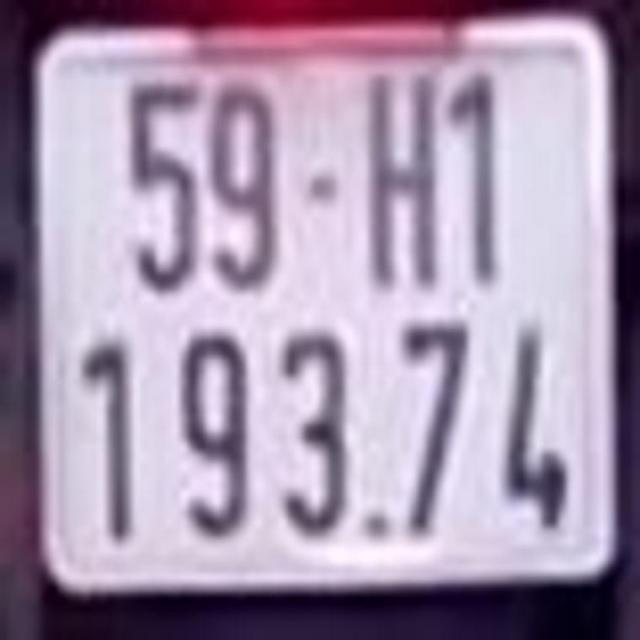1: (78, 346, 148, 537), (452, 77, 507, 286)
3: (276, 336, 355, 530)
4: (503, 332, 571, 532)
5: (122, 78, 205, 294)
7: (398, 308, 478, 527)
9: (179, 330, 250, 532), (213, 89, 278, 289)
H: (363, 77, 441, 280)
